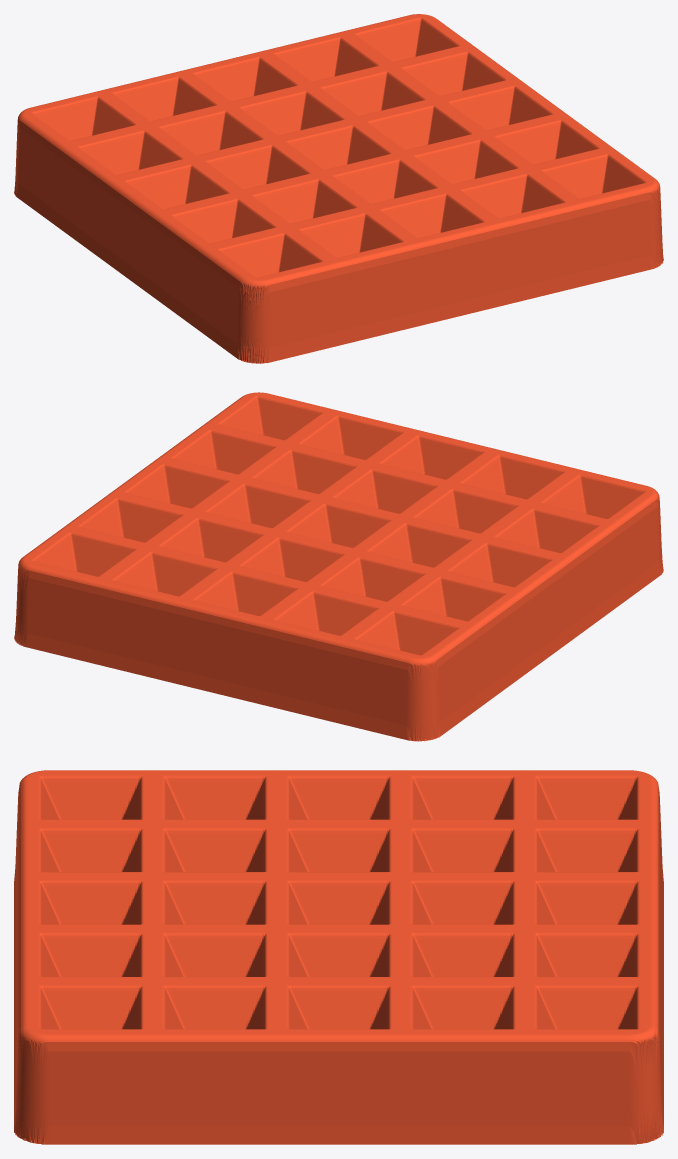
The model's file is mold.glb.
3 views of the same model, one above another, from view 1: azimuth 30°, elevation 25°; view 2: azimuth 150°, elevation 25°; view 3: azimuth 270°, elevation 25° (orthographic). The views are drawn at different scales.
Parts seen in each view (by area): view 1: geometry_0; view 2: geometry_0; view 3: geometry_0.
Part boxes in pixels (x1,y1,x2,y2): geometry_0: (14,14,663,363); geometry_0: (14,392,663,741); geometry_0: (14,770,663,1144).
Size of the model in its own units: 0.1728 by 0.0307 by 0.1728.
